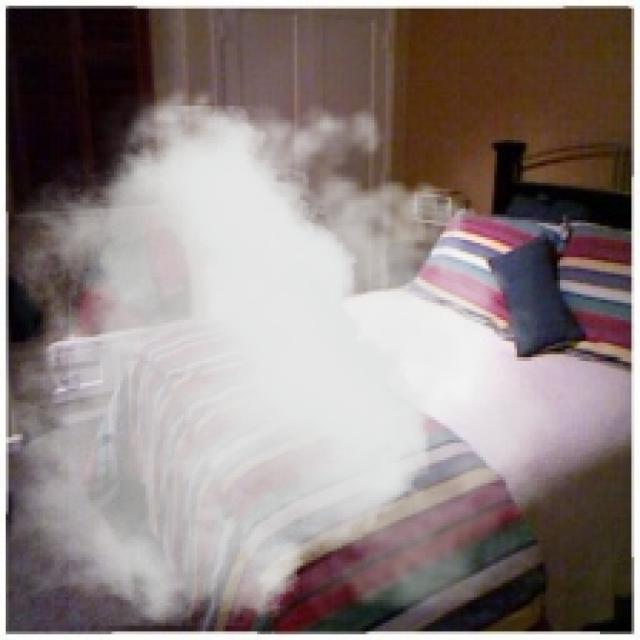Smoke: (11, 71, 578, 626)
